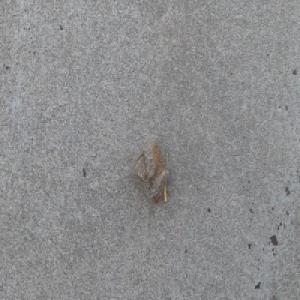Rock: (130, 136, 169, 204)
